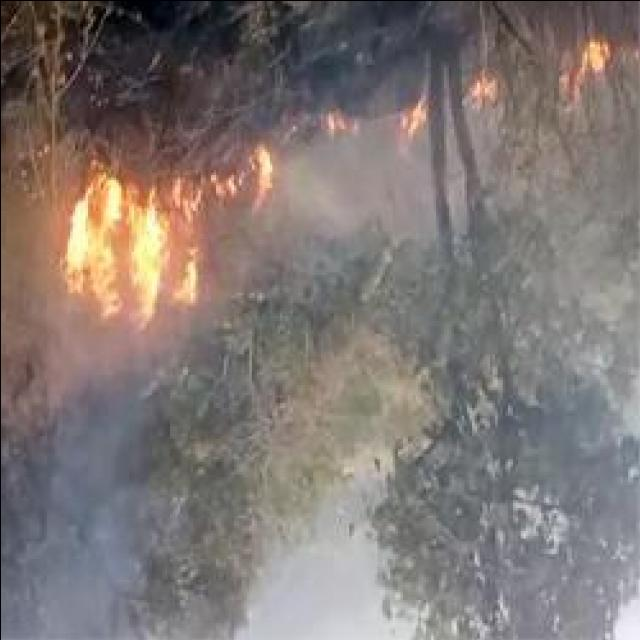fire: (68, 188, 199, 292), (254, 152, 272, 188), (464, 76, 492, 98), (582, 47, 606, 71), (398, 104, 416, 126), (328, 111, 351, 128)
smoke: (24, 346, 204, 602), (310, 160, 458, 254)
